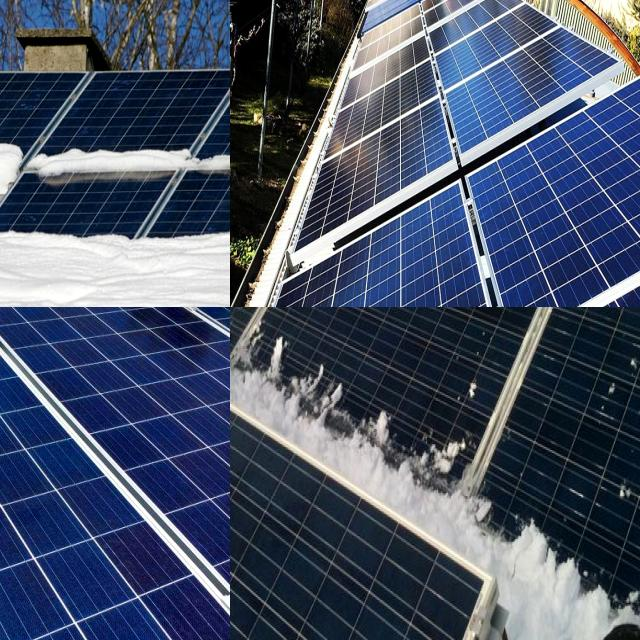crack: (0, 307, 230, 640), (444, 60, 640, 307), (230, 177, 486, 307), (0, 307, 166, 367), (60, 307, 230, 358), (0, 307, 108, 372), (0, 336, 39, 401)
panel: (235, 318, 481, 568), (492, 472, 640, 640), (0, 221, 230, 301), (0, 121, 165, 206), (31, 138, 195, 219), (0, 229, 141, 304), (230, 307, 296, 410), (408, 307, 574, 347), (275, 307, 404, 340), (230, 307, 275, 342)
